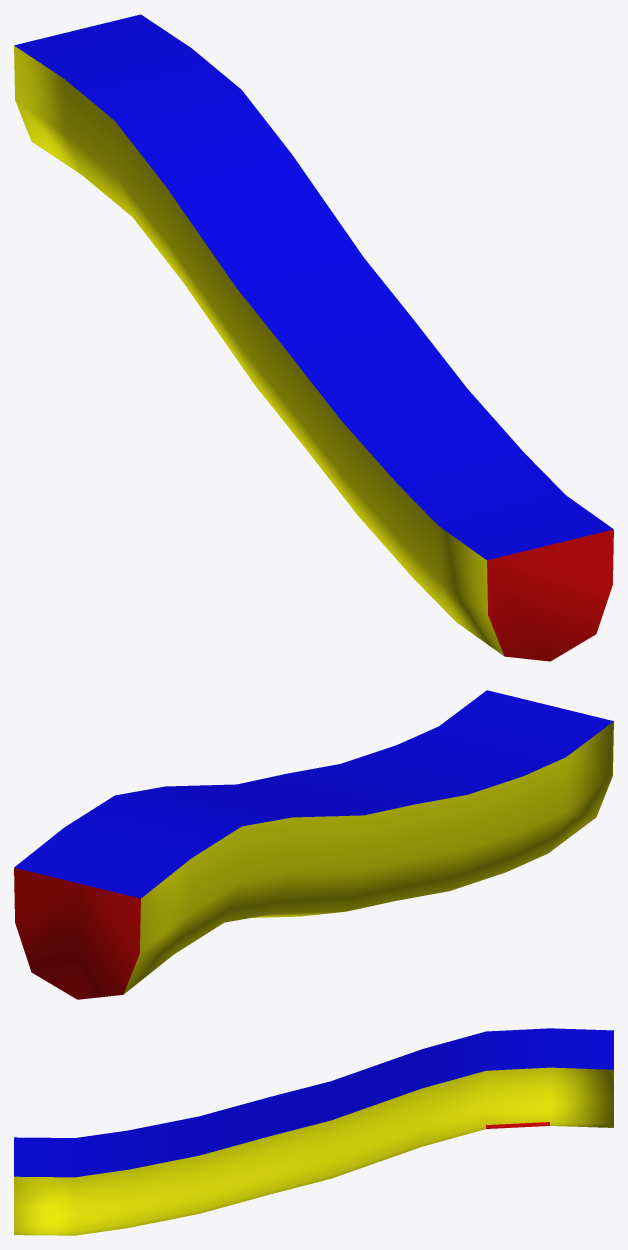
The picture shows the model from 3 angles, top to bottom: view 1: azimuth 30°, elevation 25°; view 2: azimuth 150°, elevation 25°; view 3: azimuth 270°, elevation 25°; orthographic projection. The views are drawn at different scales.
Parts seen in each view (by area): view 1: polySurface134; view 2: polySurface134; view 3: polySurface134.
Boxes of the visible parts, box(x1,y1,x2,y2) form: polySurface134: box(14, 14, 613, 661); polySurface134: box(14, 690, 613, 999); polySurface134: box(14, 1028, 613, 1235).
Size of the model in its own units: 23.58 by 51.4 by 152.
